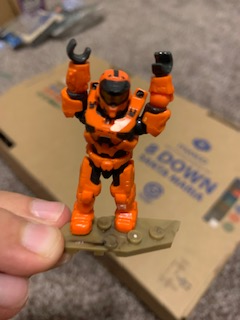spartan: (57, 38, 175, 235)
up: (58, 38, 175, 157)
